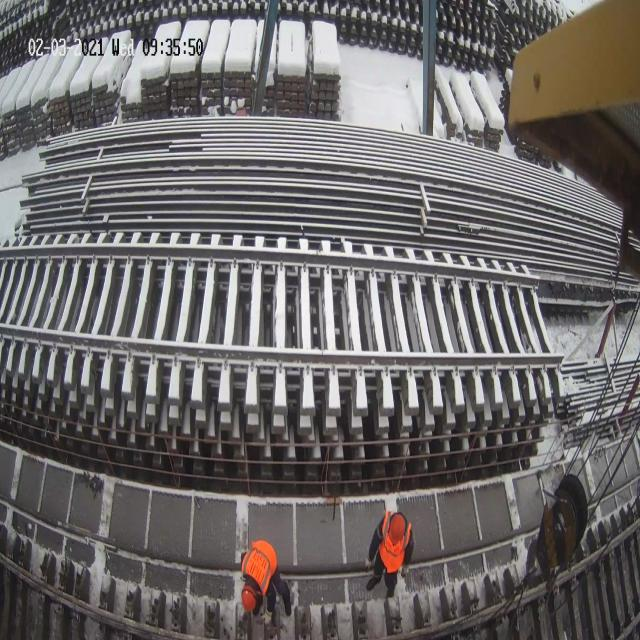Helmet: (385, 510, 407, 545), (241, 584, 257, 612)
Person: (239, 532, 291, 631), (365, 509, 414, 598)
